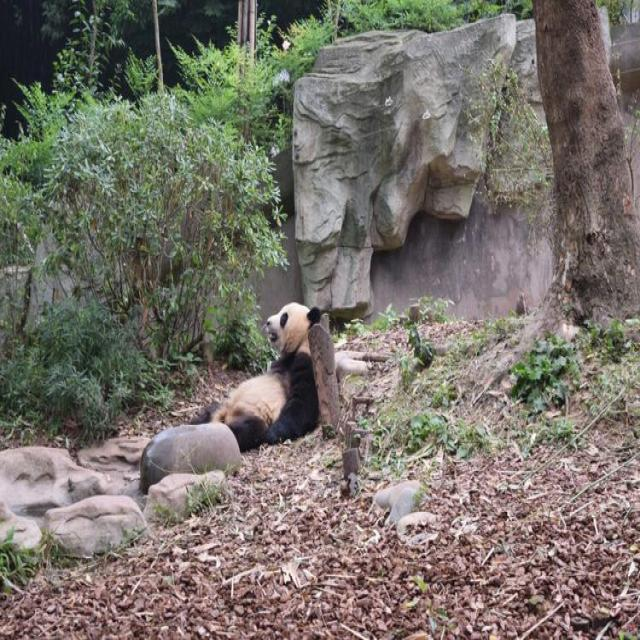panda: (204, 277, 378, 478)
